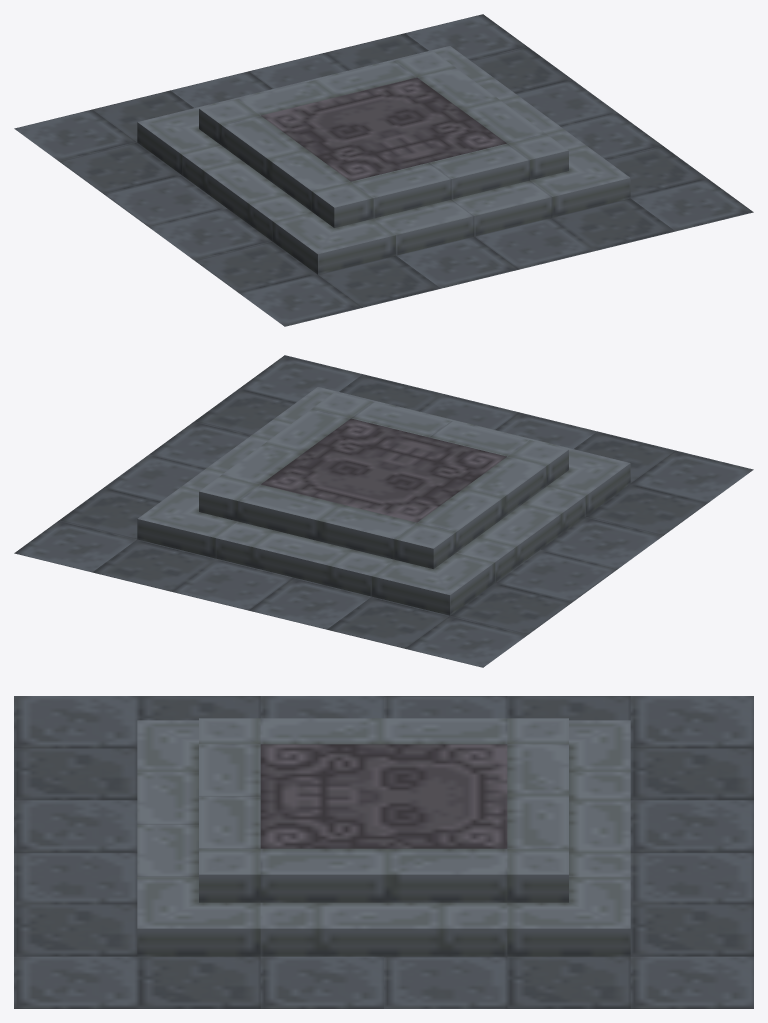
Rendered from floor_element_1_purple.fbx.
3 renders of one model, top to bottom at view 1: azimuth 30°, elevation 25°; view 2: azimuth 150°, elevation 25°; view 3: azimuth 270°, elevation 25°, orthographic. The views are drawn at different scales.
Parts seen in each view (by area): view 1: floor_element_1_purple; view 2: floor_element_1_purple; view 3: floor_element_1_purple.
Boxes of the visible parts, x1,y1,x2,y2 form: floor_element_1_purple: (14, 14, 753, 326); floor_element_1_purple: (14, 355, 753, 667); floor_element_1_purple: (14, 696, 753, 1008).
Size of the model in its own units: 96 by 8 by 96.
